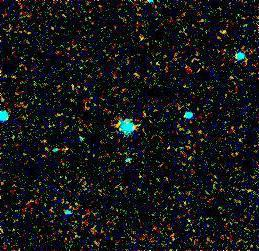star: (208, 17, 238, 47)
